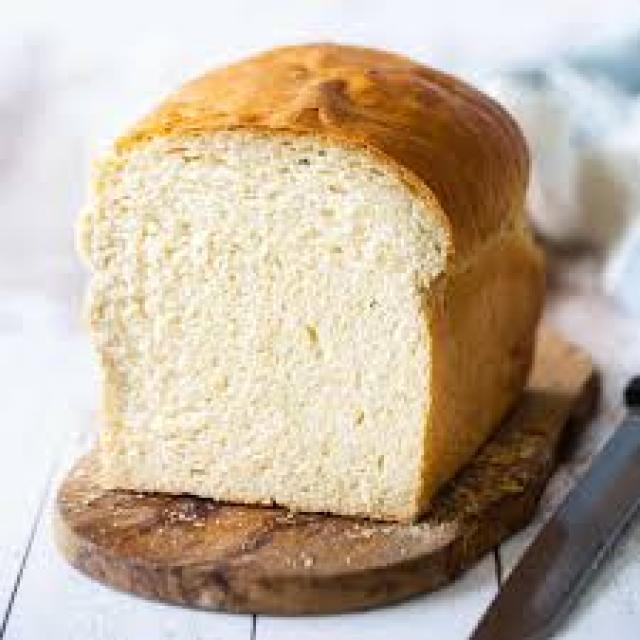organic waste: (77, 45, 540, 515)
